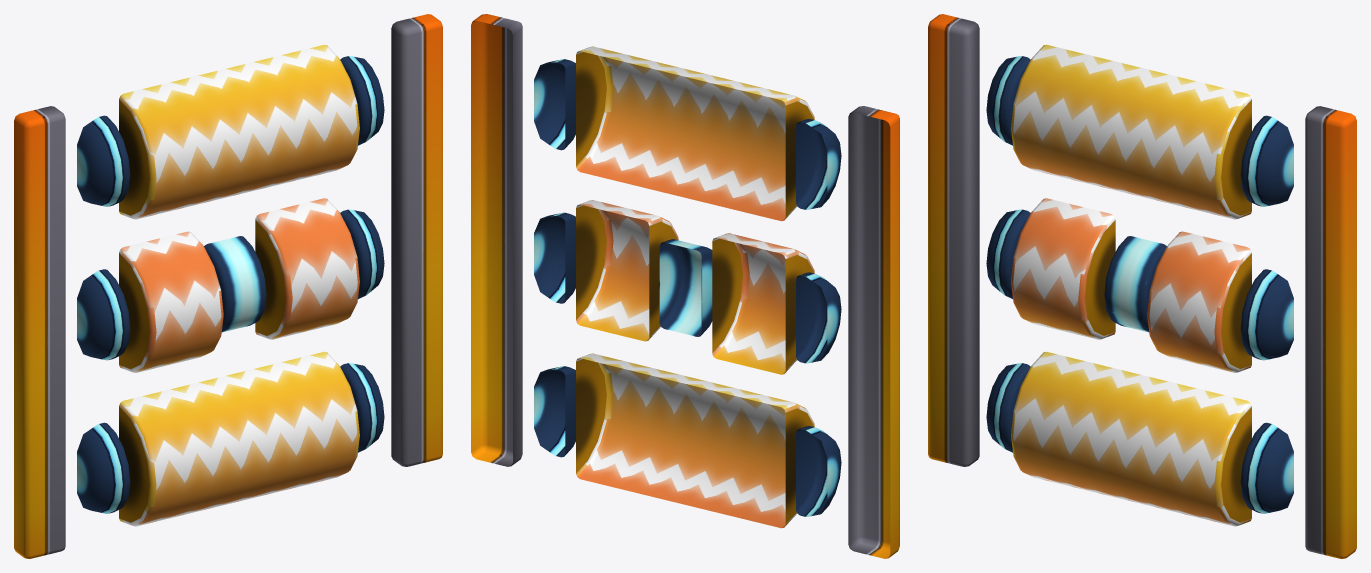
Rendered from ROD0110008.FBX.
3 renders of one model, left to right at view 1: azimuth 30°, elevation 25°; view 2: azimuth 150°, elevation 25°; view 3: azimuth 330°, elevation 25°, orthographic.
Parts seen in each view (by area): view 1: smROD0110008; view 2: smROD0110008; view 3: smROD0110008.
Boxes of the visible parts, bbox=[...] form: smROD0110008: bbox=[14, 14, 442, 558]; smROD0110008: bbox=[471, 14, 899, 558]; smROD0110008: bbox=[928, 14, 1356, 558].
Size of the model in its own units: 37.9 by 37.9 by 5.25.
Materials: 2 (2 with a texture image).
